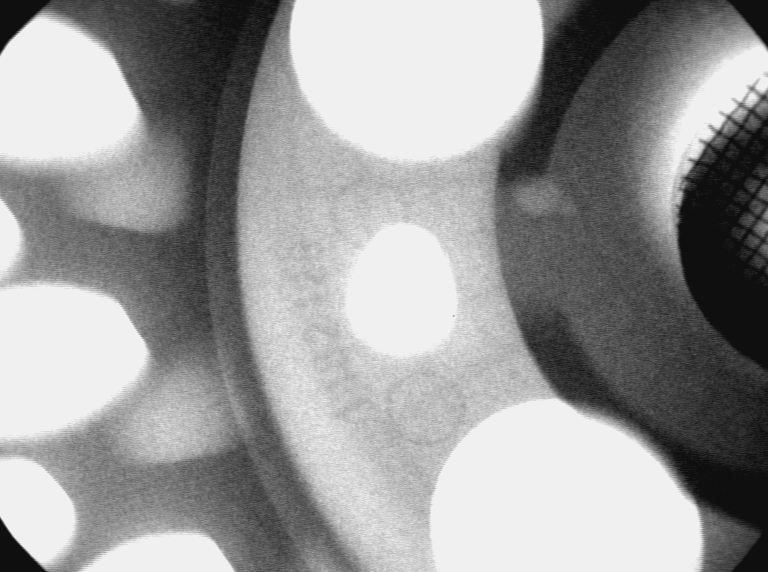defect: (510, 172, 583, 225)
